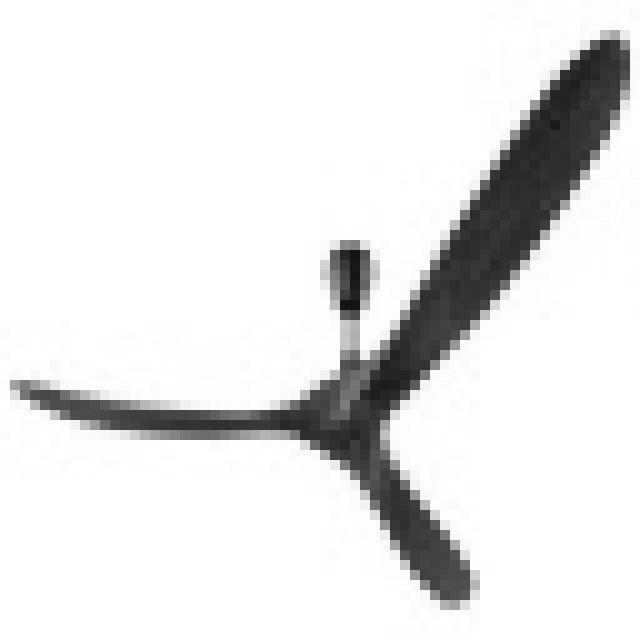fan: (6, 28, 632, 610)
